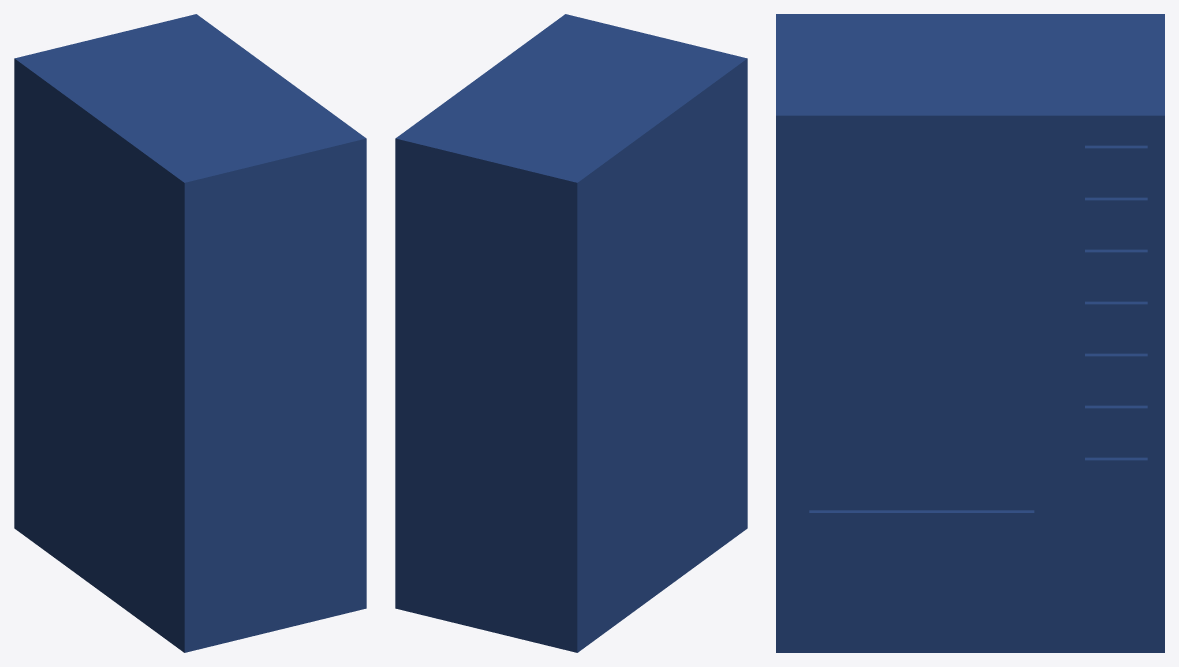
File: ss-vending.lod1.glb
3 views of the same model, side by side, from view 1: azimuth 30°, elevation 25°; view 2: azimuth 150°, elevation 25°; view 3: azimuth 270°, elevation 25° (orthographic). The views are drawn at different scales.
Parts seen in each view (by area): view 1: Mesh66_Color_M00_0; view 2: Mesh66_Color_M00_0; view 3: Mesh66_Color_M00_0.
Boxes of the visible parts, <box> form: Mesh66_Color_M00_0: <box>14,14,366,652</box>; Mesh66_Color_M00_0: <box>395,14,747,652</box>; Mesh66_Color_M00_0: <box>776,14,1164,652</box>.
Bounding box in the file's own units: 0.7459 × 1.79 × 1.18.
